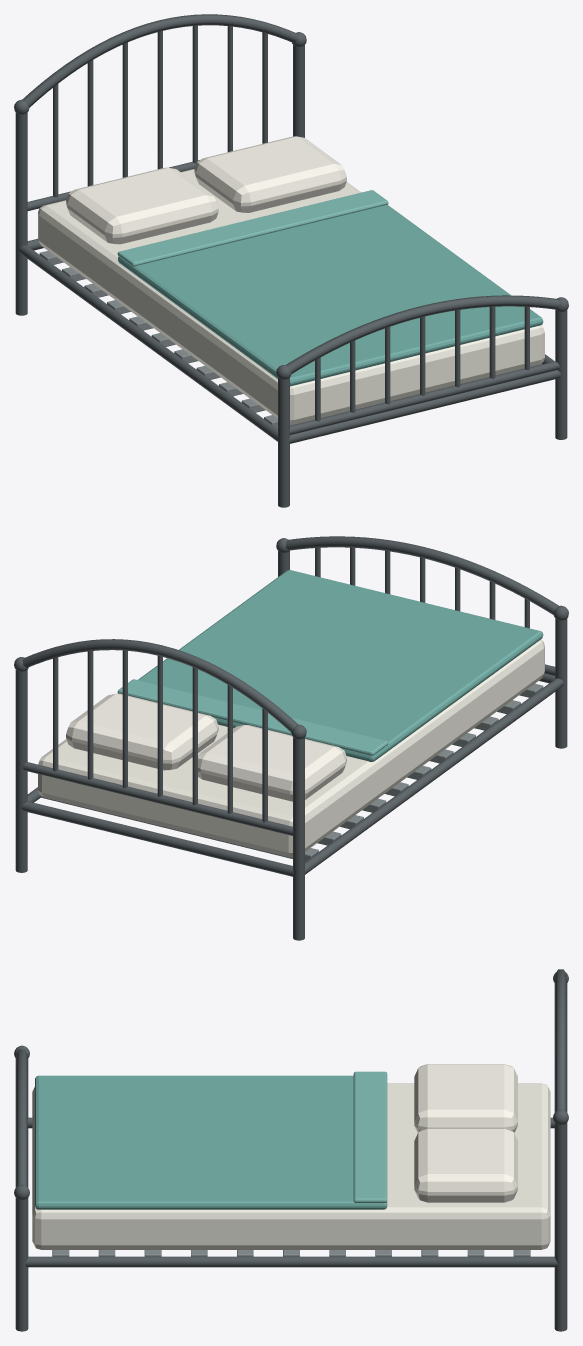
File: bed_metal.glb
3 views of the same model, one above another, from view 1: azimuth 30°, elevation 25°; view 2: azimuth 150°, elevation 25°; view 3: azimuth 270°, elevation 25° (orthographic). The views are drawn at different scales.
Visible parts, largest first — view 1: Metal bed folded top blanket, Metal bed rounded mattress, Metal bed soft pillow 1, Metal bed soft pillow 2, Metal bed blanket turned edge, Metal bed side mattress rail, Metal bed curved head top rail, Metal bed curved foot top rail, Metal bed foot lower crossbar, Metal bed end mattress rail, Metal bed head post, Metal bed foot post.001 (+9 smaller); view 2: Metal bed folded top blanket, Metal bed rounded mattress, Metal bed soft pillow 2, Metal bed soft pillow 1, Metal bed blanket turned edge, Metal bed side mattress rail, Metal bed curved head top rail, Metal bed curved foot top rail, Metal bed end mattress rail.001, Metal bed head lower crossbar, Metal bed head post.001, Metal bed head post (+8 smaller); view 3: Metal bed folded top blanket, Metal bed rounded mattress, Metal bed soft pillow 2, Metal bed soft pillow 1, Metal bed side mattress rail.001, Metal bed blanket turned edge, Metal bed head post.001, Metal bed foot post.001, Metal bed curved head top rail, Metal bed curved foot top rail, Metal bed head post, Metal bed foot post.
Boxes of the visible parts, box(x1,y1,x2,y2) form: Metal bed folded top blanket: box(118, 205, 543, 386); Metal bed rounded mattress: box(38, 169, 544, 424); Metal bed soft pillow 1: box(66, 167, 218, 244); Metal bed soft pillow 2: box(194, 136, 346, 212); Metal bed blanket turned edge: box(117, 190, 388, 266); Metal bed side mattress rail: box(18, 245, 277, 441); Metal bed curved head top rail: box(22, 14, 298, 107); Metal bed curved foot top rail: box(286, 295, 559, 374); Metal bed foot lower crossbar: box(289, 361, 559, 434); Metal bed end mattress rail: box(289, 370, 561, 443); Metal bed head post: box(15, 112, 27, 315); Metal bed foot post.001: box(555, 310, 567, 439); Metal bed folded top blanket: box(138, 570, 543, 761); Metal bed rounded mattress: box(38, 639, 544, 857); Metal bed soft pillow 2: box(66, 693, 218, 770); Metal bed soft pillow 1: box(198, 725, 346, 801); Metal bed blanket turned edge: box(117, 679, 388, 755); Metal bed side mattress rail: box(305, 678, 564, 874); Metal bed curved head top rail: box(22, 639, 298, 732); Metal bed curved foot top rail: box(285, 536, 558, 614); Metal bed end mattress rail.001: box(21, 801, 293, 876); Metal bed head lower crossbar: box(23, 762, 293, 835); Metal bed head post.001: box(15, 670, 27, 872); Metal bed head post: box(293, 737, 304, 940); Metal bed folded top blanket: box(35, 1075, 387, 1209); Metal bed rounded mattress: box(32, 1083, 550, 1249); Metal bed soft pillow 2: box(414, 1128, 517, 1202); Metal bed soft pillow 1: box(414, 1064, 517, 1132); Metal bed side mattress rail.001: box(25, 1256, 557, 1267); Metal bed blanket turned edge: box(353, 1071, 387, 1202); Metal bed head post.001: box(554, 1122, 567, 1331); Metal bed foot post.001: box(15, 1198, 28, 1331); Metal bed curved head top rail: box(555, 969, 566, 1111); Metal bed curved foot top rail: box(16, 1049, 27, 1186); Metal bed head post: box(554, 983, 567, 1112); Metal bed foot post: box(15, 1058, 28, 1187).
Bounding box in the file's own units: 1.33 × 1.13 × 2.14.
